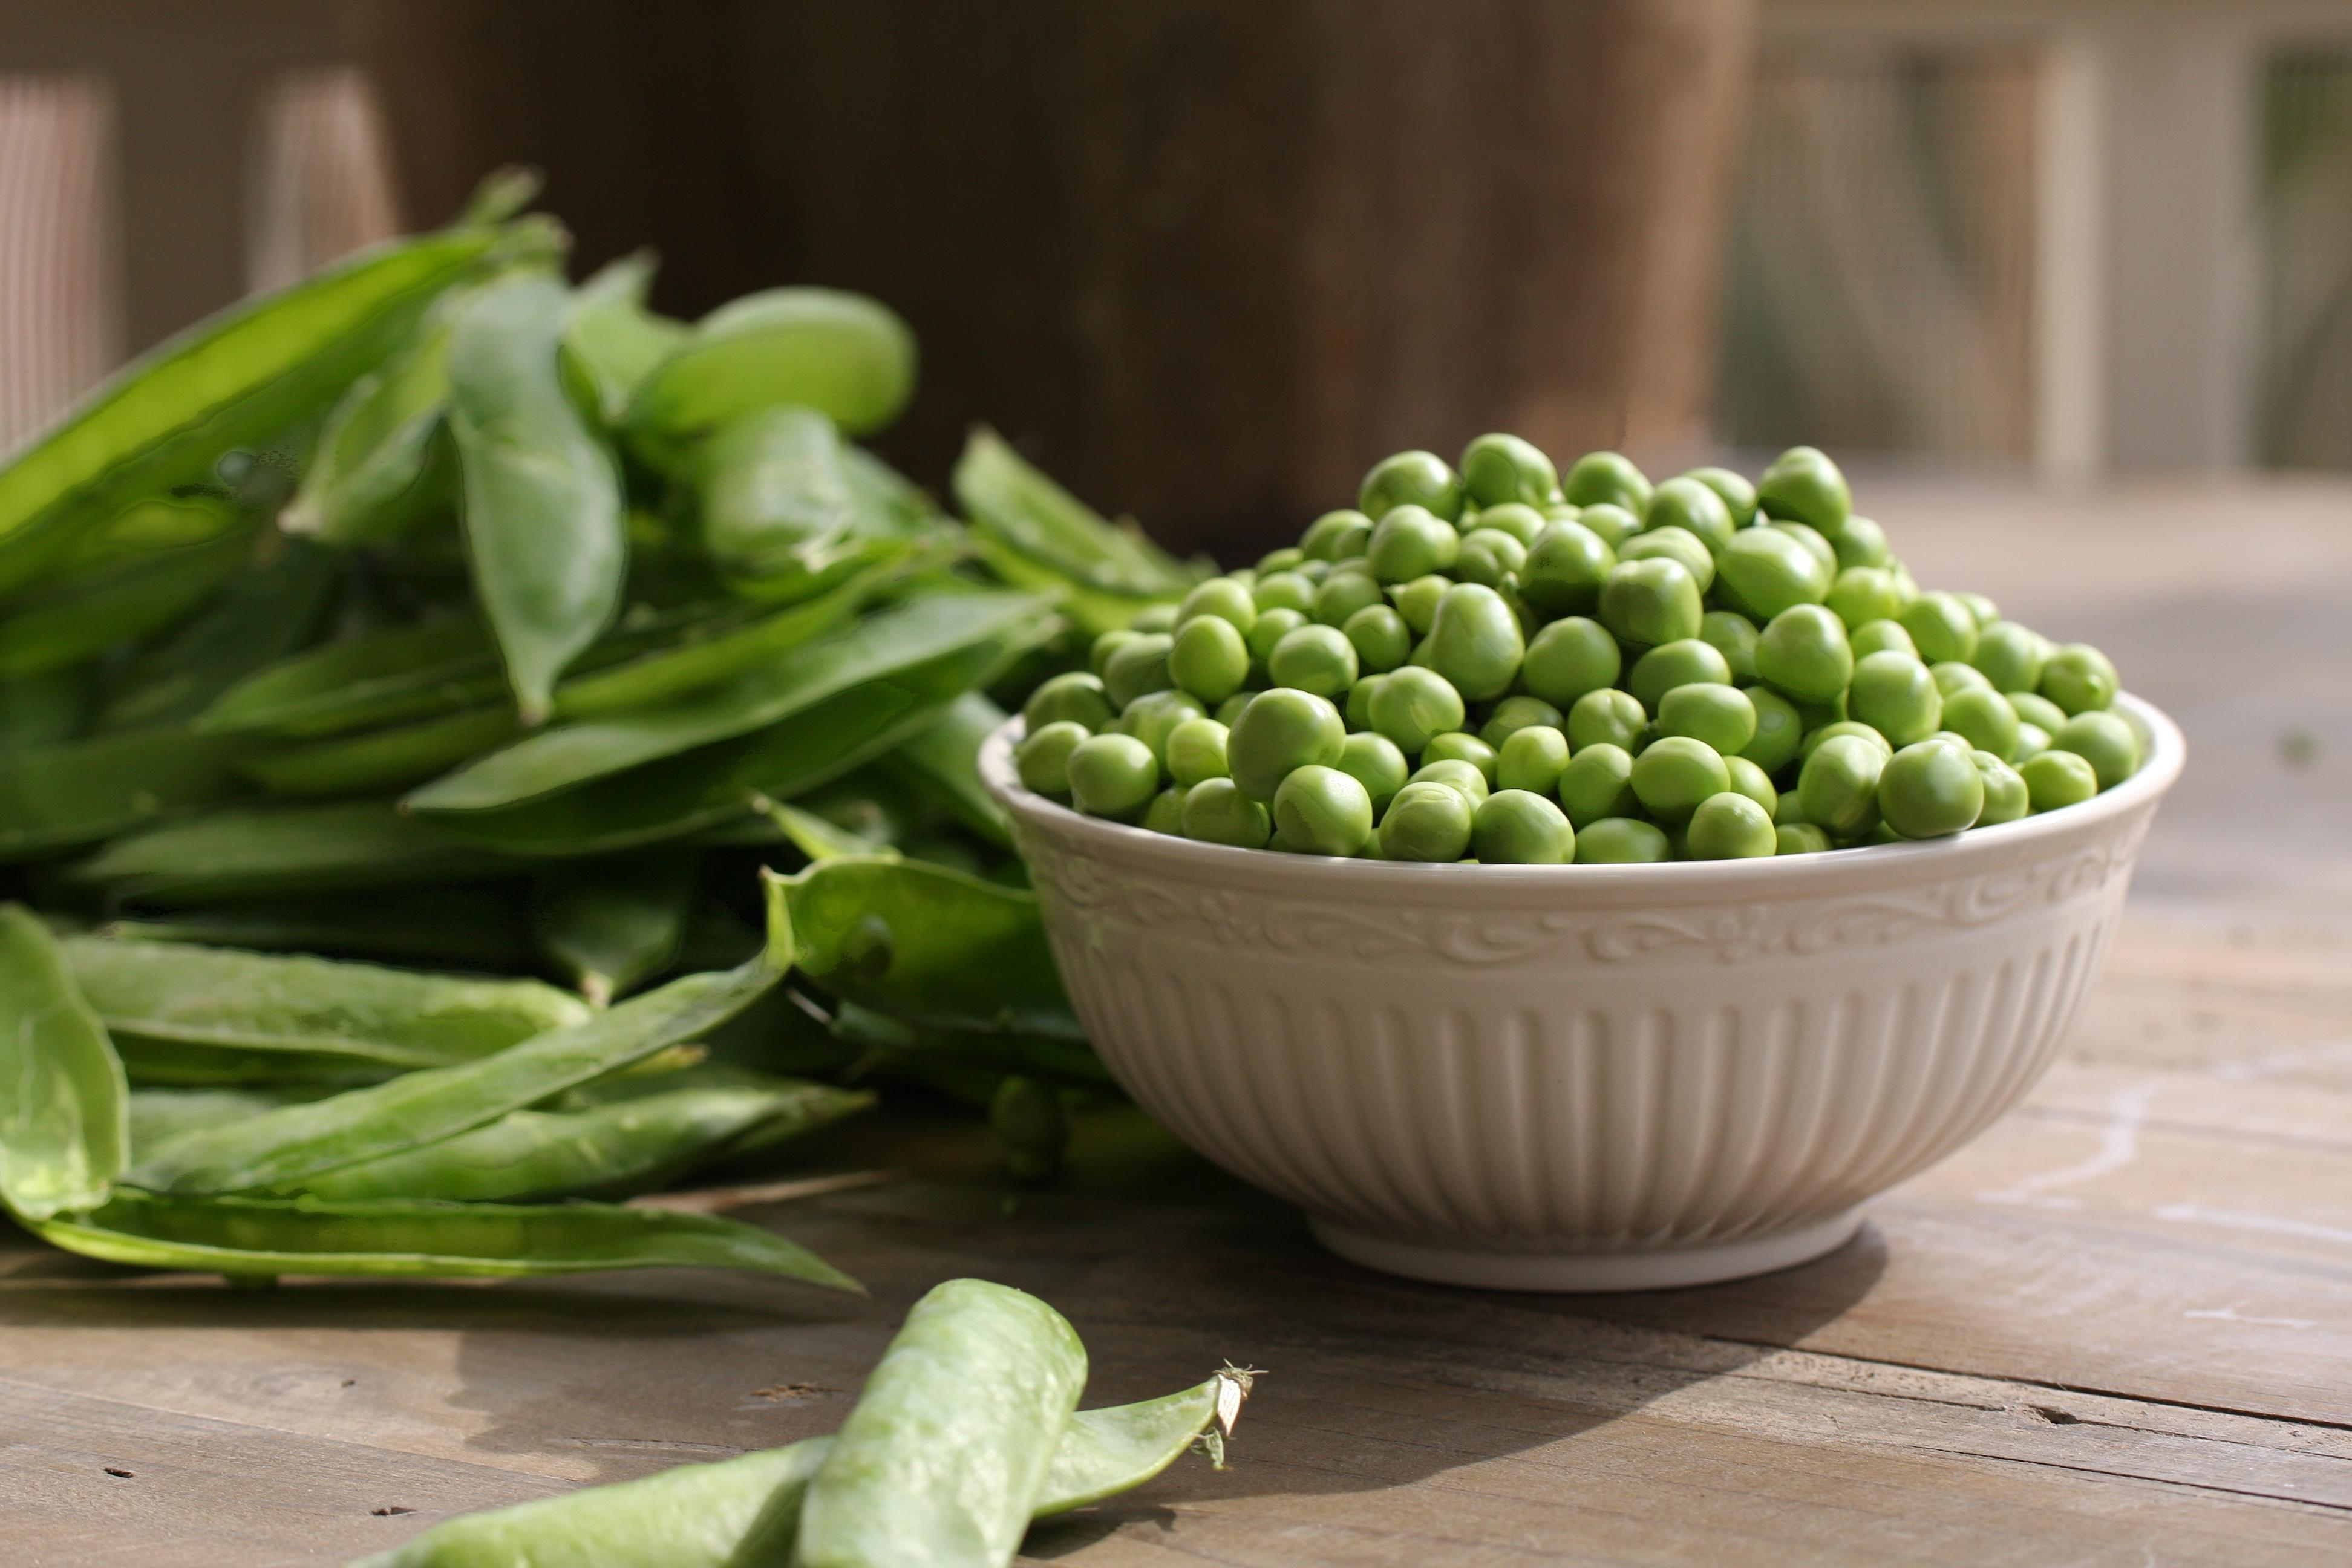peas: (0, 170, 1197, 1298), (1013, 429, 2144, 863), (0, 175, 567, 535), (1029, 1358, 1267, 1521)
